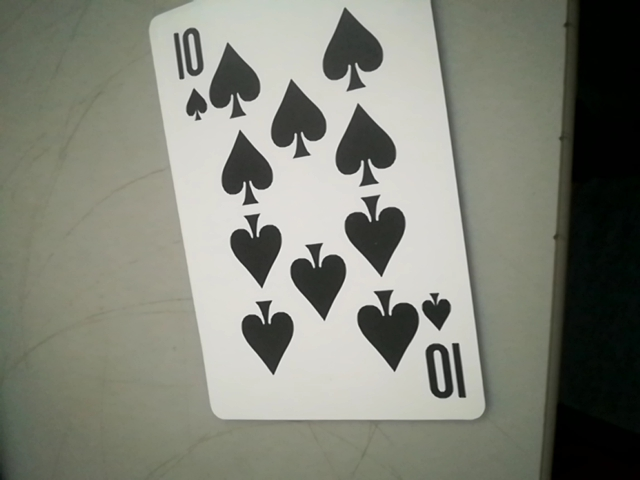ht 10: (157, 20, 233, 133)
